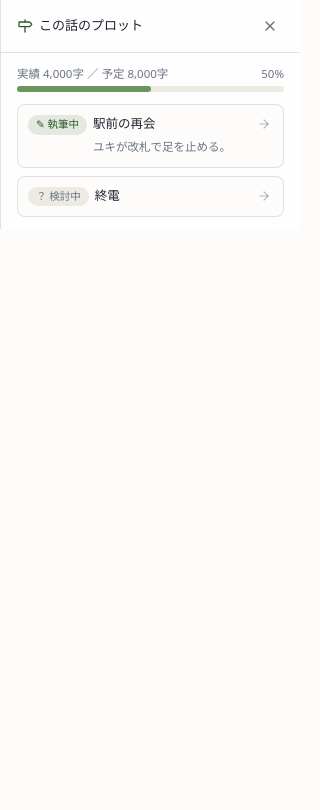
Test: PlotPeek（この話のプロット） › ビートを開くと、要約・人物と舞台・メモ・伏線・秘密・進捗・ネタ帳まで読める
This screenshot has width=320, height=810.
Click the button with aria-label "「駅前の再会」の詳細". click: (171, 136)
box: [93, 115, 249, 157]
(page scrolled)
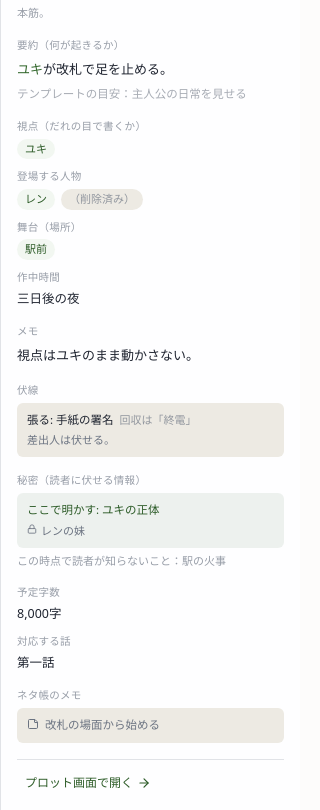
Expected: the text "ユキ" is shown, [17, 60, 43, 78]
Expected: the button "ユキ" is shown, [17, 139, 55, 159]
Expected: the button "レン" is shown, [17, 189, 55, 210]
